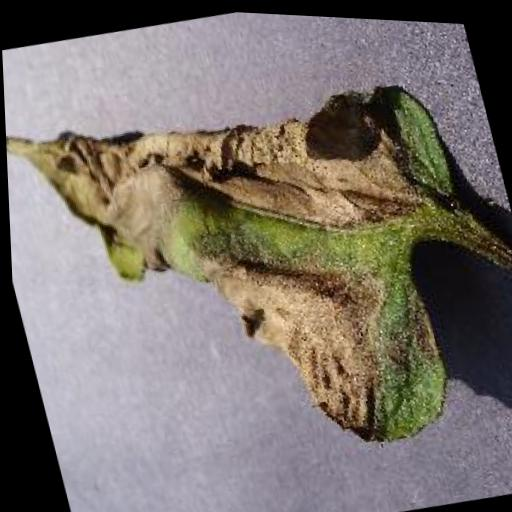Late Blight: (1, 39, 512, 510)
